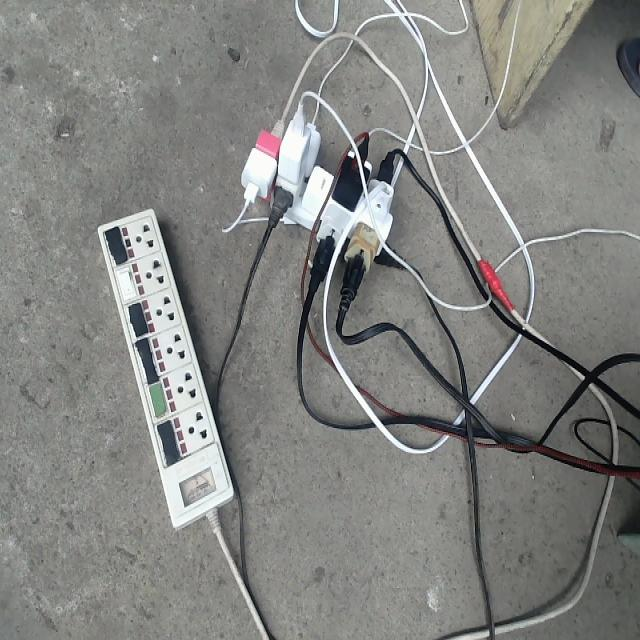-: (237, 96, 401, 287)
